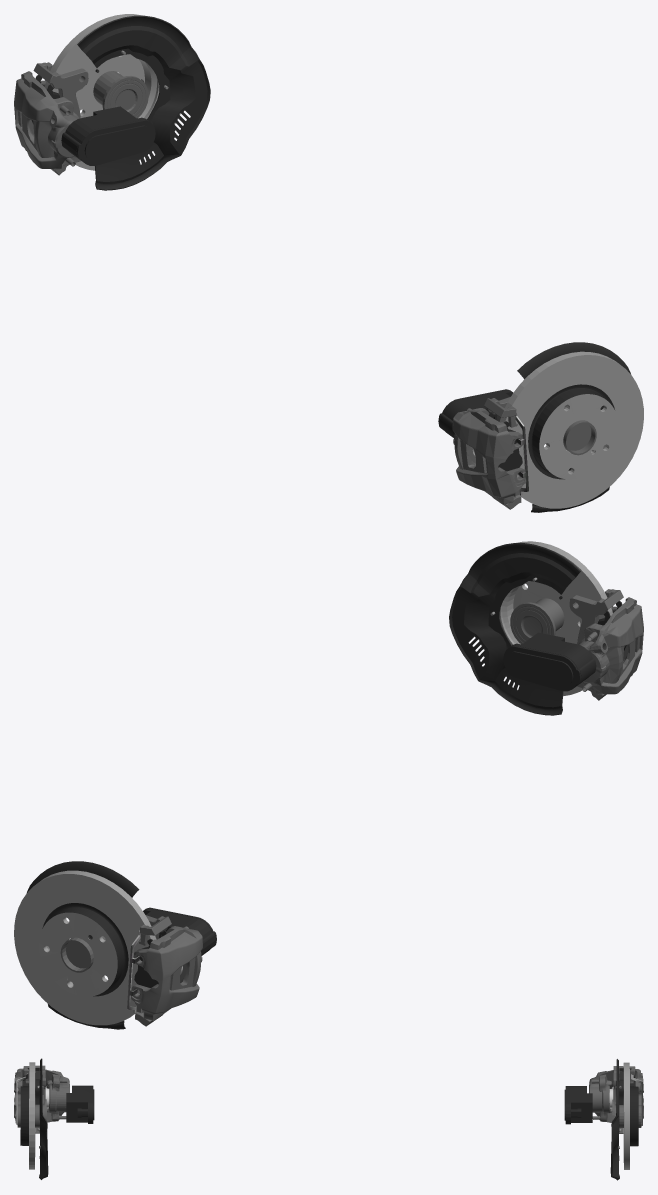
File: E5_后制动器总成.FBX
3 views of the same model, one above another, from view 1: azimuth 30°, elevation 25°; view 2: azimuth 150°, elevation 25°; view 3: azimuth 270°, elevation 25° (orthographic). The views are drawn at different scales.
Parts seen in each view (by area): view 1: HXJZC133, HXJZC88, HXJZC129, HXJZC85, HXJZC95, HXJZC89, HXJZC90, HXJZC132, HXJZC139, HXJZC134; view 2: HXJZC89, HXJZC132, HXJZC85, HXJZC129, HXJZC139, HXJZC133, HXJZC134, HXJZC88, HXJZC95, HXJZC90; view 3: HXJZC129, HXJZC85, HXJZC89, HXJZC133, HXJZC139, HXJZC95, HXJZC88, HXJZC132, HXJZC134, HXJZC90.
Boxes of the visible parts, x1,y1,x2,y2 form: HXJZC133: (499, 351, 643, 508); HXJZC88: (77, 15, 210, 190); HXJZC129: (452, 397, 528, 509); HXJZC85: (14, 62, 88, 175); HXJZC95: (61, 106, 155, 165); HXJZC89: (44, 14, 180, 170); HXJZC90: (93, 71, 148, 118); HXJZC132: (517, 342, 630, 512); HXJZC139: (438, 389, 513, 437); HXJZC134: (545, 405, 596, 455); HXJZC89: (14, 870, 156, 1025); HXJZC132: (449, 543, 580, 715); HXJZC85: (127, 915, 202, 1026); HXJZC129: (569, 589, 643, 700); HXJZC139: (503, 632, 596, 691); HXJZC133: (478, 541, 612, 696); HXJZC134: (510, 598, 564, 644); HXJZC88: (27, 861, 139, 1029); HXJZC95: (143, 907, 216, 955); HXJZC90: (60, 936, 105, 972); HXJZC129: (14, 1065, 69, 1133); HXJZC85: (589, 1066, 643, 1133); HXJZC89: (623, 1062, 638, 1169); HXJZC133: (20, 1062, 35, 1169); HXJZC139: (66, 1085, 94, 1123); HXJZC95: (564, 1086, 592, 1124); HXJZC88: (610, 1059, 619, 1180); HXJZC132: (39, 1058, 48, 1179); HXJZC134: (17, 1099, 46, 1127); HXJZC90: (612, 1099, 641, 1127).
Size of the model in its own units: 36.18 by 31.46 by 163.
9 materials, 1 textured.
